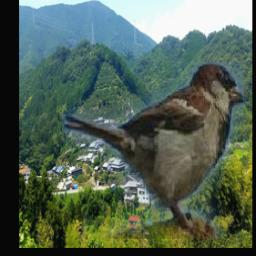Sparrow: (62, 63, 244, 240)
